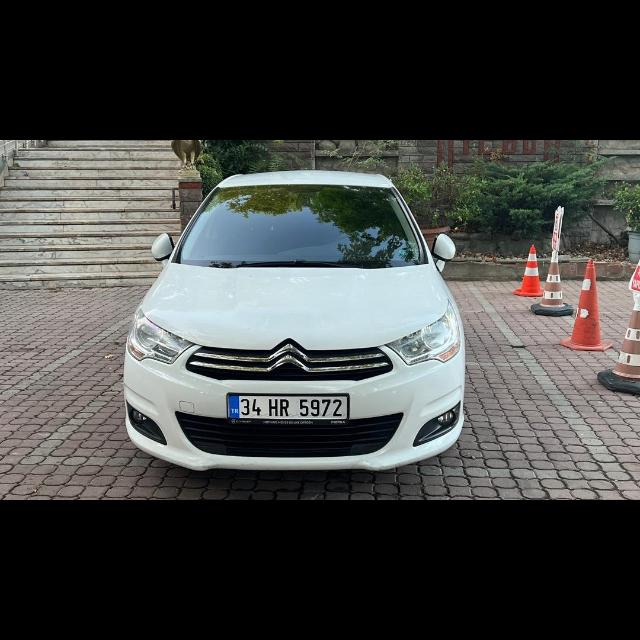Plaka: (228, 396, 346, 419)
